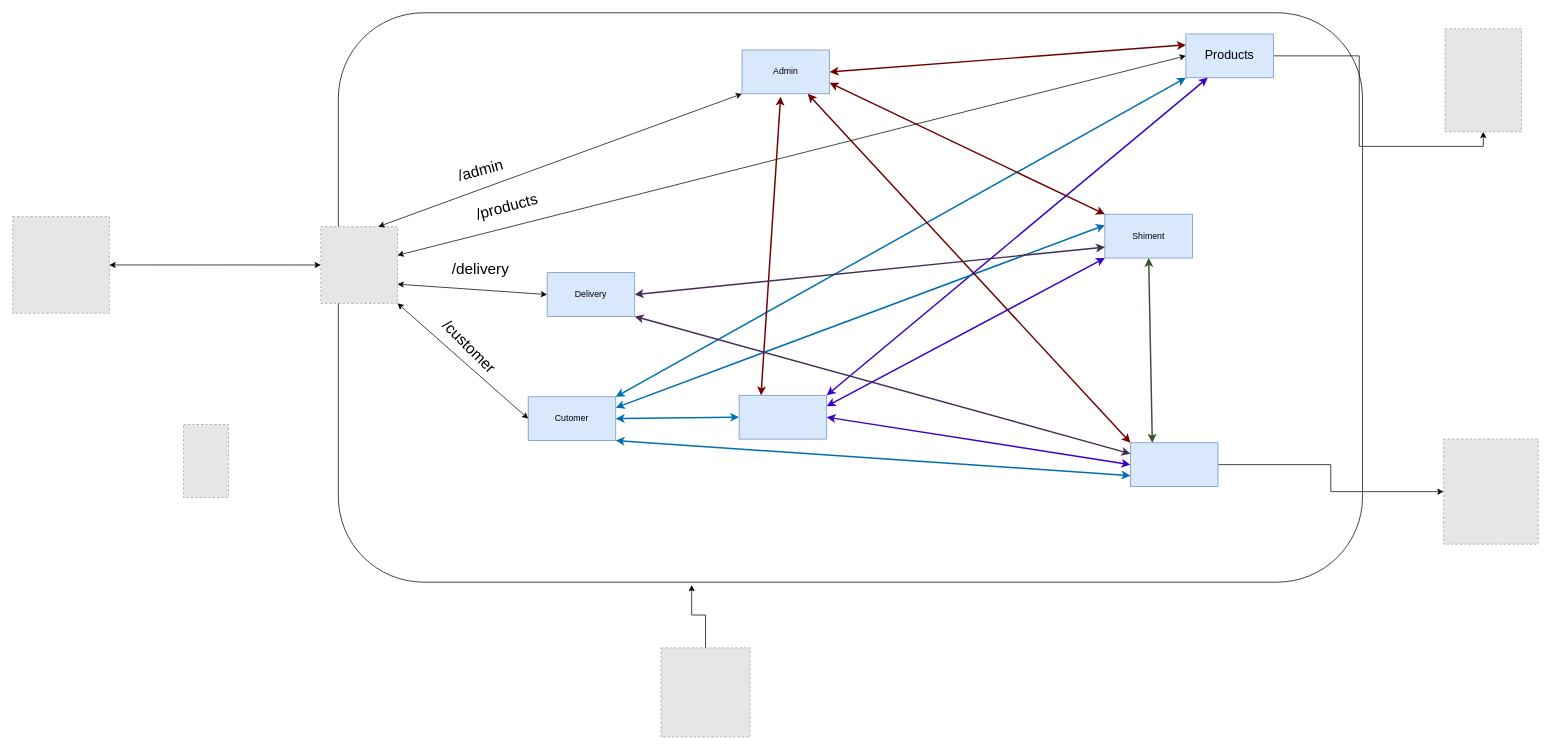
Image size: 1551x750. Some labels were removed from this diagram. Grey dashed boxes stand in for pictures. The shapes that lost their labels are listed below. From the top down, each one's centre as x and y in pixels, then its label:
At (x=782, y=417): "Orders".
At (x=1174, y=464): "User".
